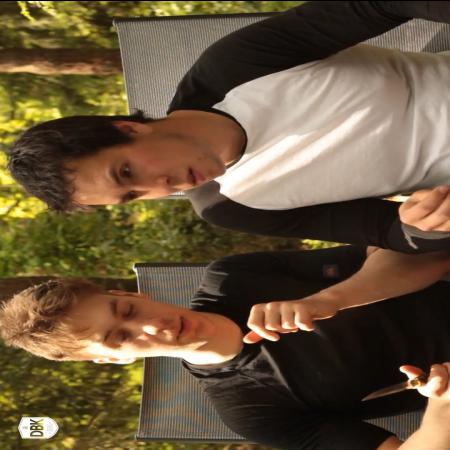long weapon: (346, 359, 450, 407)
